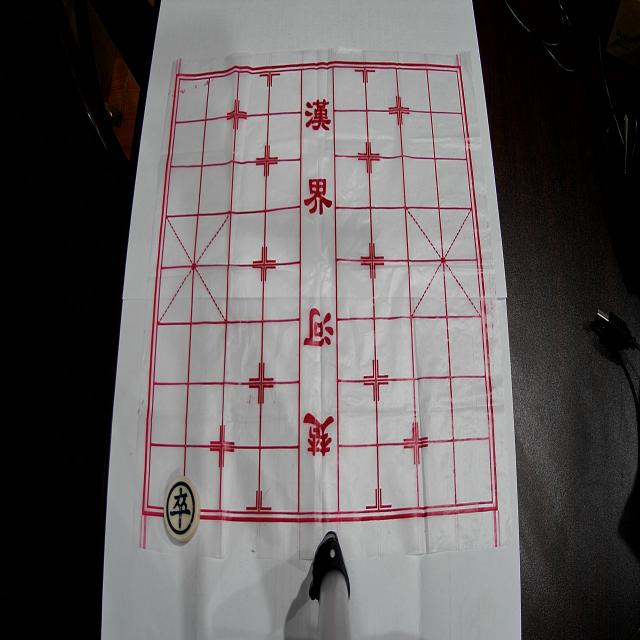black-soldier: (163, 476, 200, 542)
